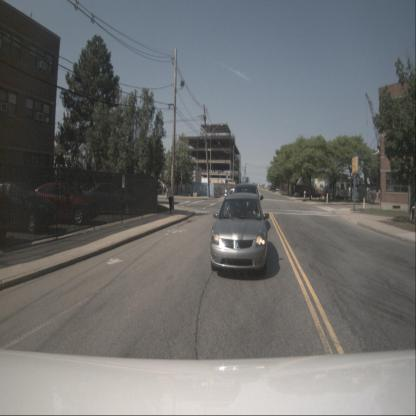human-pedestrian-adult: (166, 184, 174, 214)
vehicle-car: (209, 192, 268, 275), (26, 180, 98, 226), (0, 179, 58, 234), (83, 181, 142, 214), (230, 183, 260, 225), (0, 182, 16, 238)
